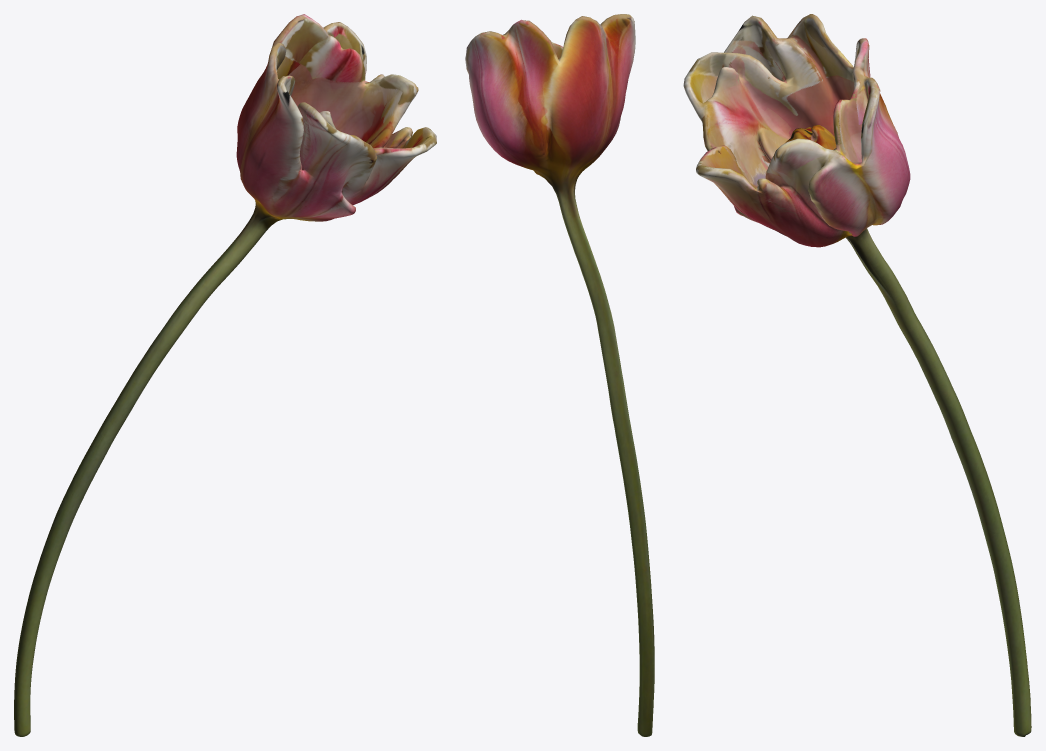
Rendered from jolie_tulipe_avec_une_0203195302_texture.fbx.
3 views of the same model, side by side, from view 1: azimuth 30°, elevation 25°; view 2: azimuth 150°, elevation 25°; view 3: azimuth 270°, elevation 25° (orthographic). The views are drawn at different scales.
Parts seen in each view (by area): view 1: Mesh1_Mesh1.059; view 2: Mesh1_Mesh1.059; view 3: Mesh1_Mesh1.059.
Part boxes in pixels (x1,y1,x2,y2): Mesh1_Mesh1.059: (14, 14, 436, 736); Mesh1_Mesh1.059: (465, 14, 654, 736); Mesh1_Mesh1.059: (683, 14, 1031, 736).
Bounding box in the file's own units: 85.95 × 199 × 77.8.
Materials: 1 (1 with a texture image).
